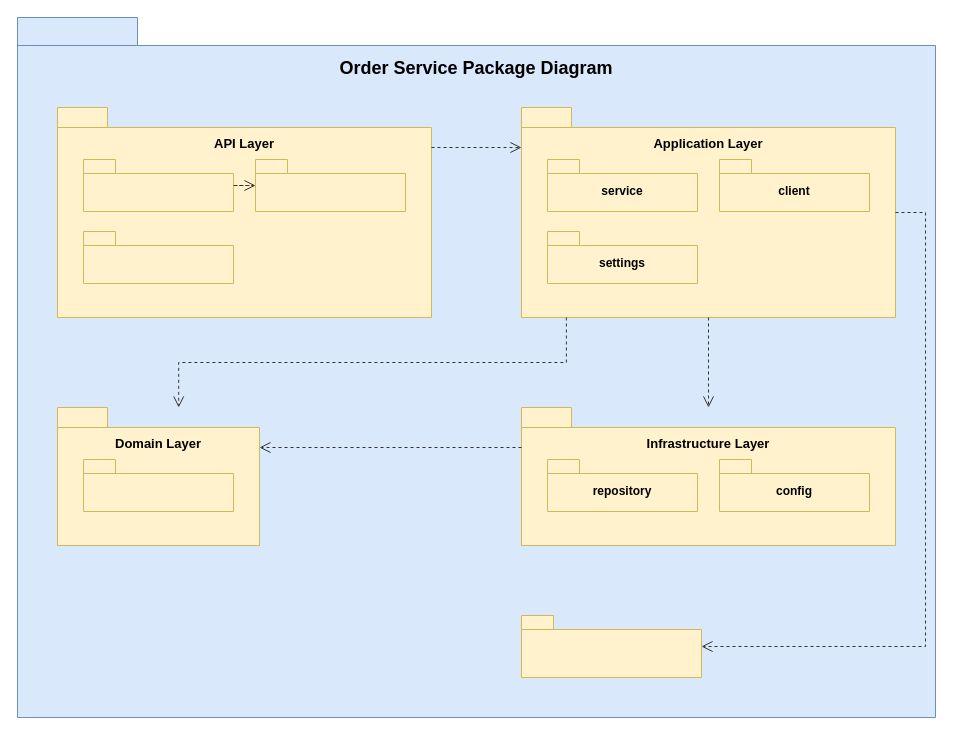
Image size: 954x735. Some labels were removed from this diagram. Each missing label, with the centre of its shape:
"admin" belongs at (x=158, y=257).
"common-lib" belongs at (x=611, y=646).
"controller" belongs at (x=158, y=185).
"dto" belongs at (x=330, y=185).
"model" belongs at (x=158, y=485).
